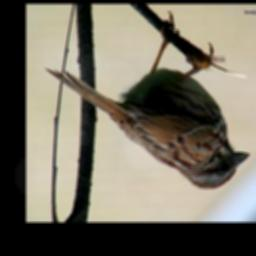Sparrow: (43, 11, 249, 192)
